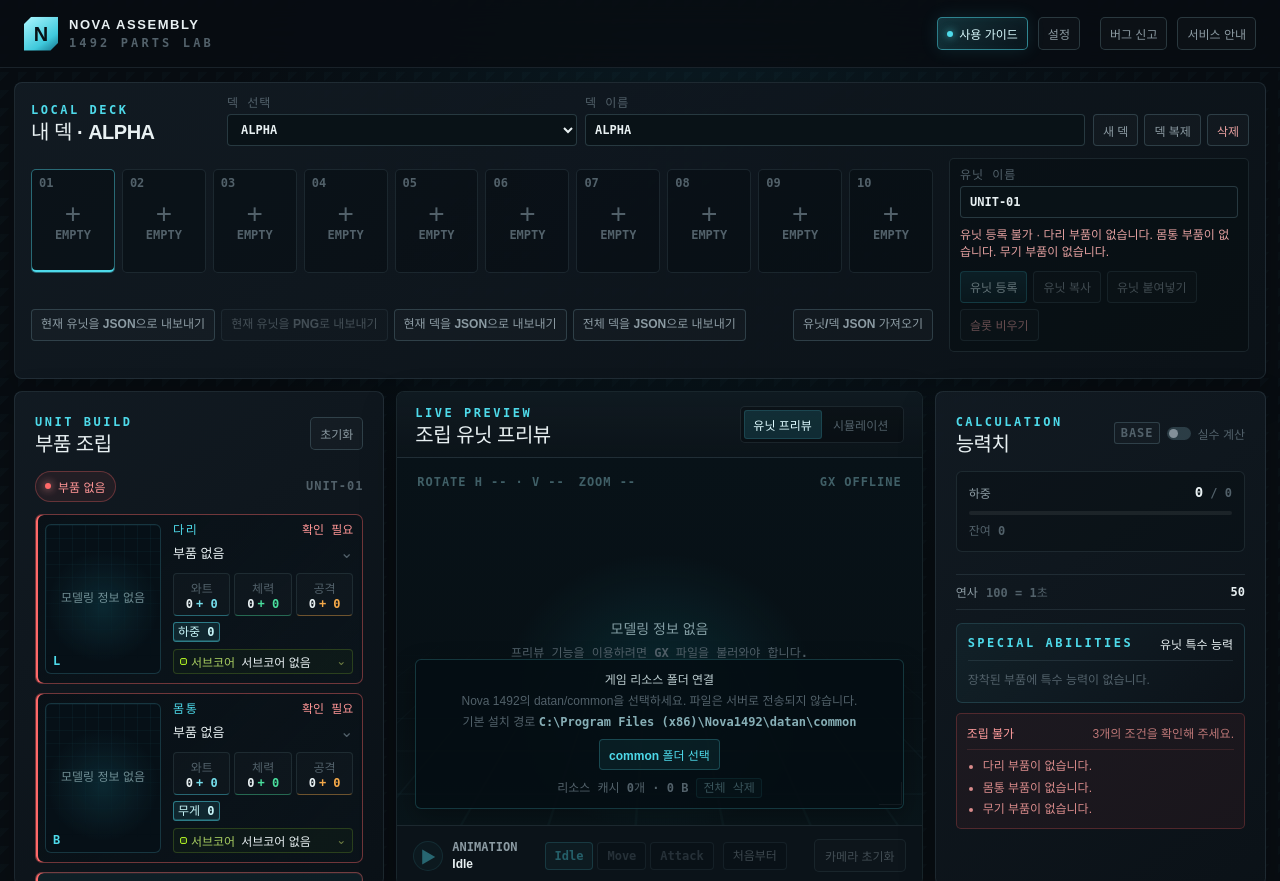
it: T09 부품 선택 및 강화 UI › 다리 선택에서 지상과 공중 부품을 구분해 필터링한다
Step 1. Click the button with aria-label "다리 부품 변경" → point(263, 552), box [173, 540, 353, 565]
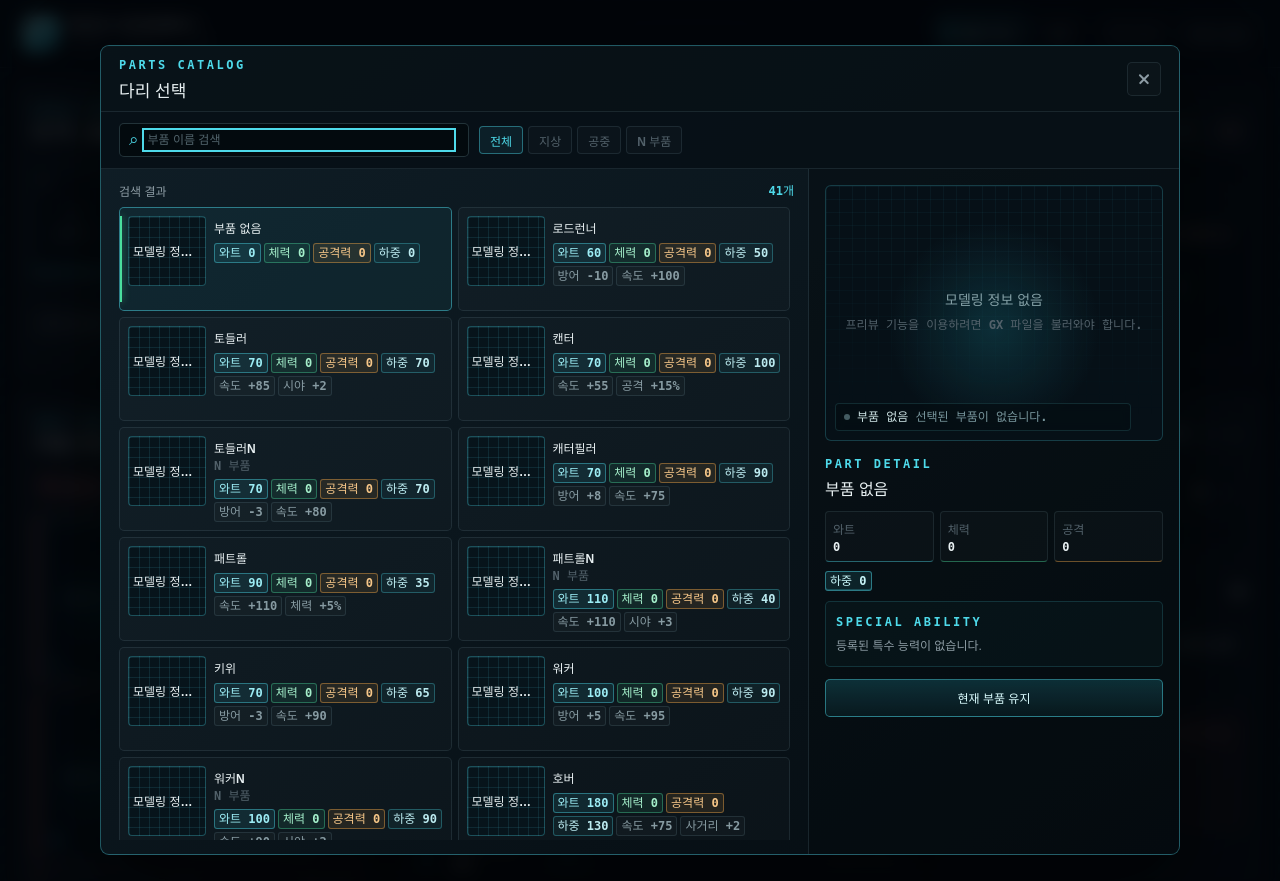
Step 2. Click the button "공중" → point(599, 140), box [577, 126, 621, 154]
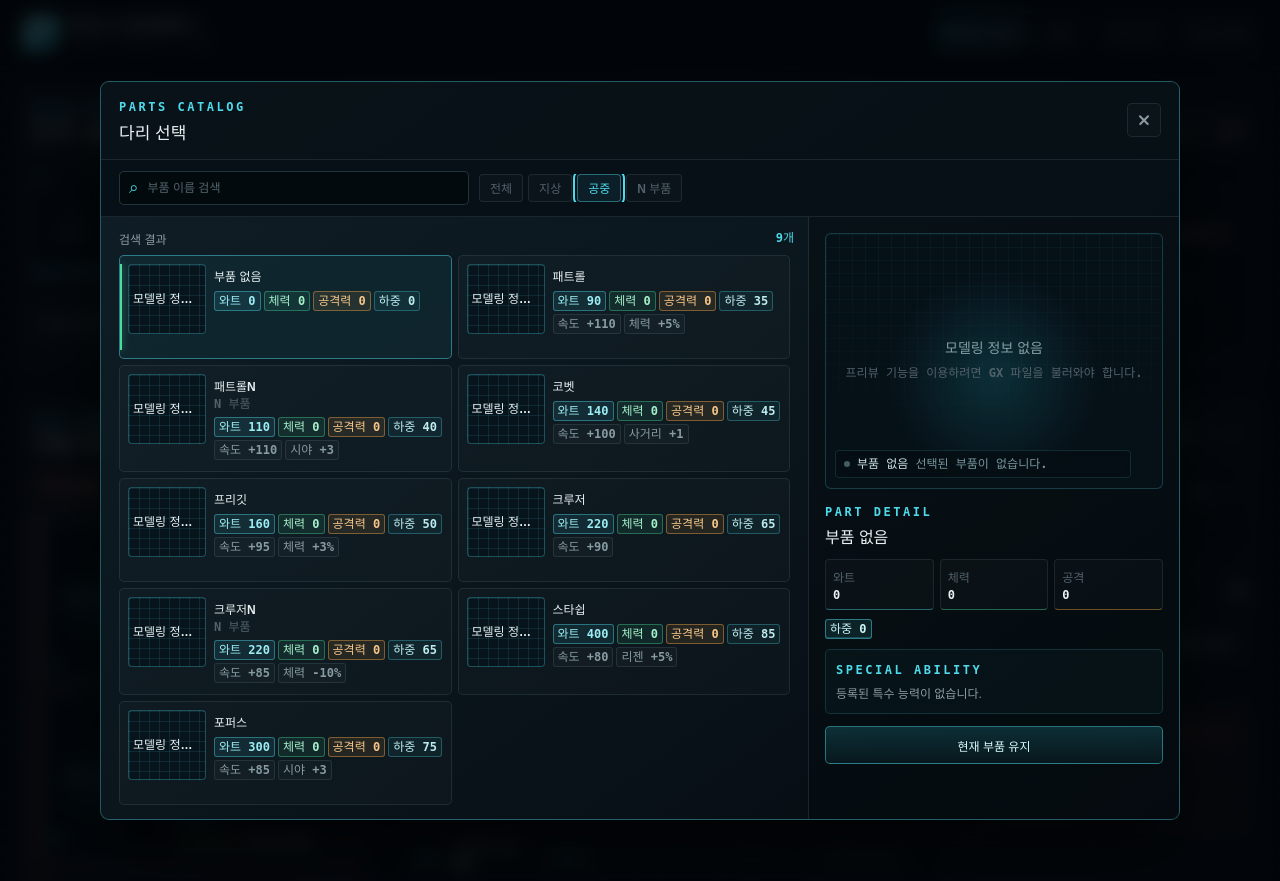
Check: the button "패트롤" is shown, box [458, 254, 790, 358]
Check: the button "스타쉽" is shown, box [458, 588, 790, 694]
Check: the button "로드런너" is gone
Step 3. Click the button "지상" → point(550, 188), box [528, 174, 572, 202]
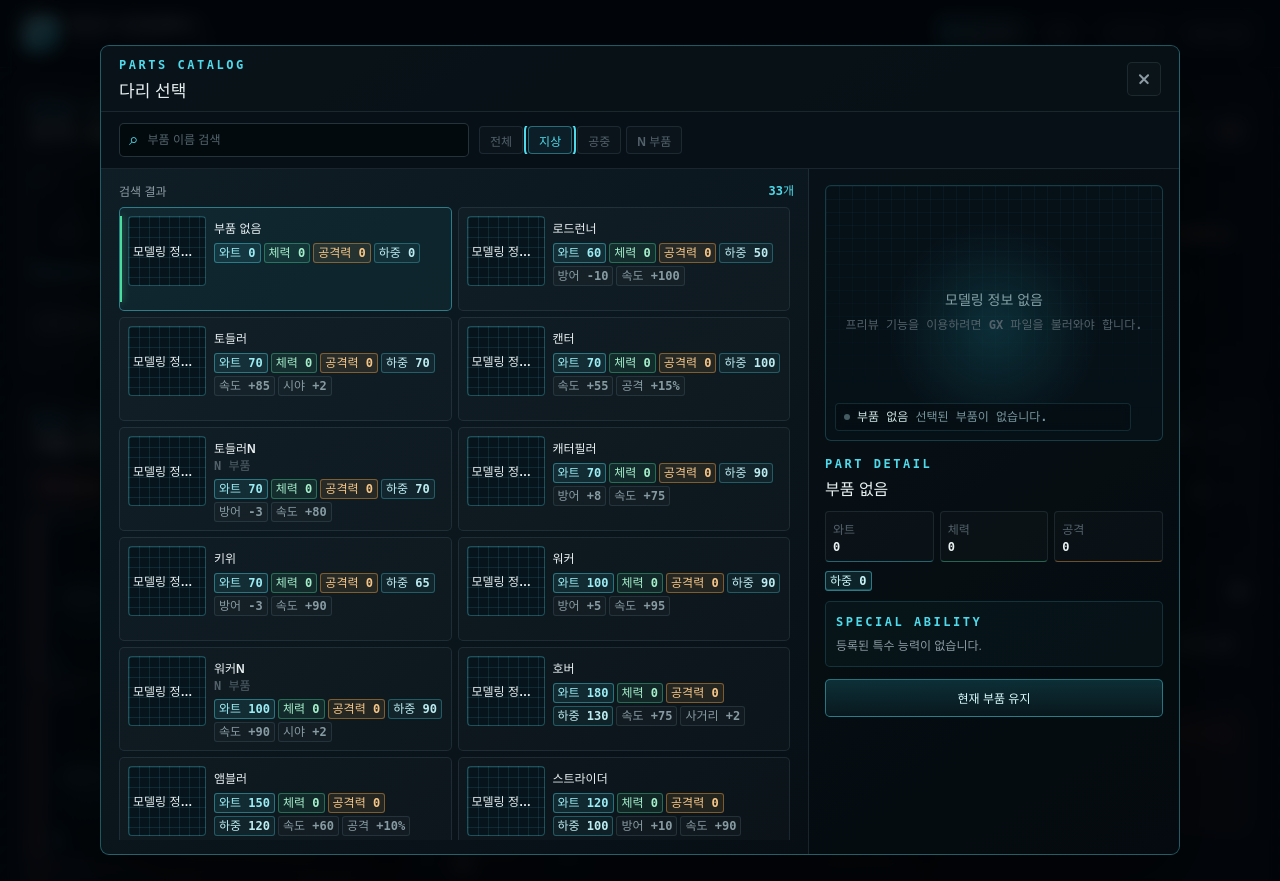
Check: the button "모델링 정보 없음 부품 없음 와트 0 체력 0 공격력 0 하중 0" is shown, box [119, 207, 452, 311]
Check: the button "로드런너" is shown, box [458, 207, 790, 311]
Check: the button "패트롤" is gone
